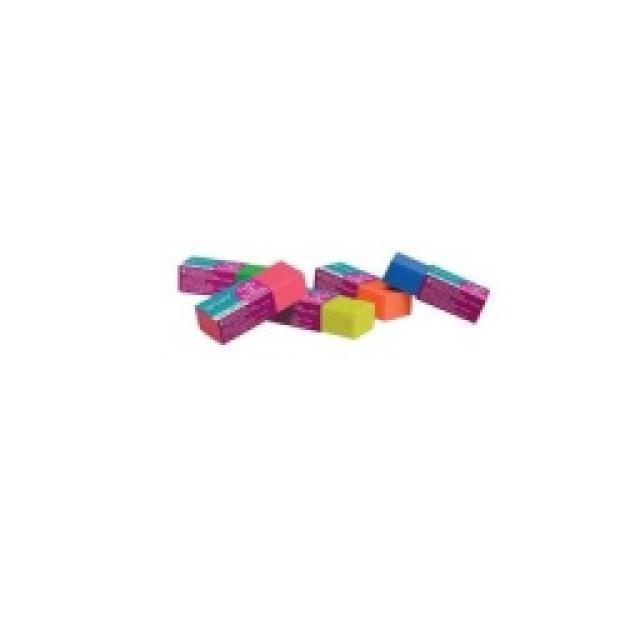Silgi: (386, 249, 489, 324)
